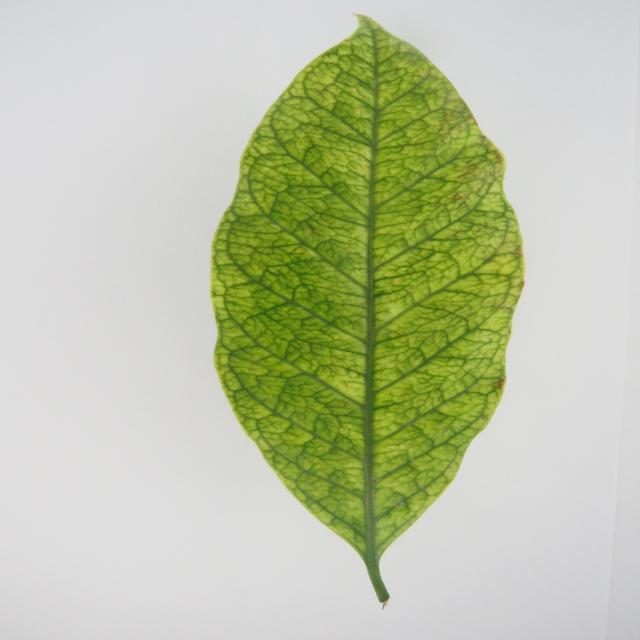DeficienciaNutricional-Hierro: (212, 16, 523, 604)
